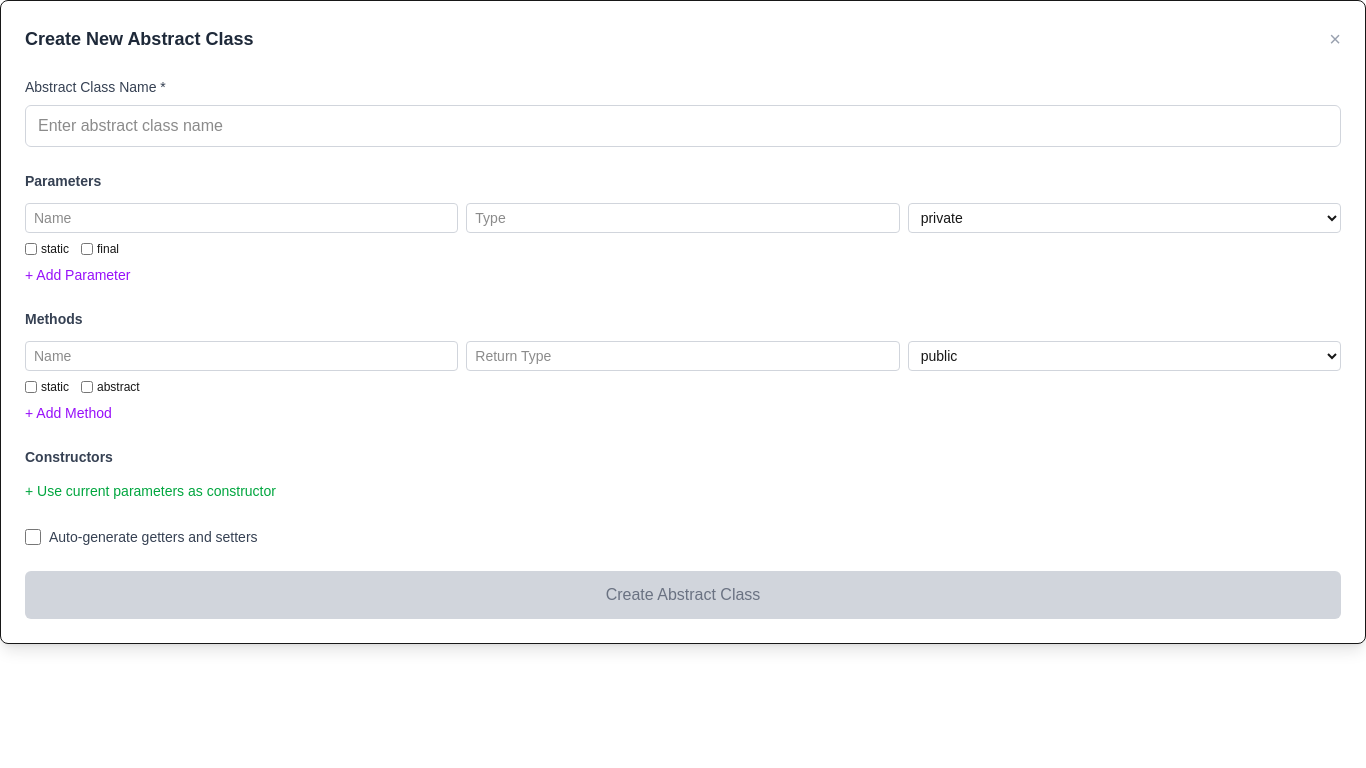
CreateAbstract component › adds and removes an abstract method
The width and height of the screenshot is (1366, 768).
Type "execute" into the field with placeholder "Name" below "Methods".
click(242, 356); type("execute")  # box top-left (25, 341), bottom-right (458, 371)
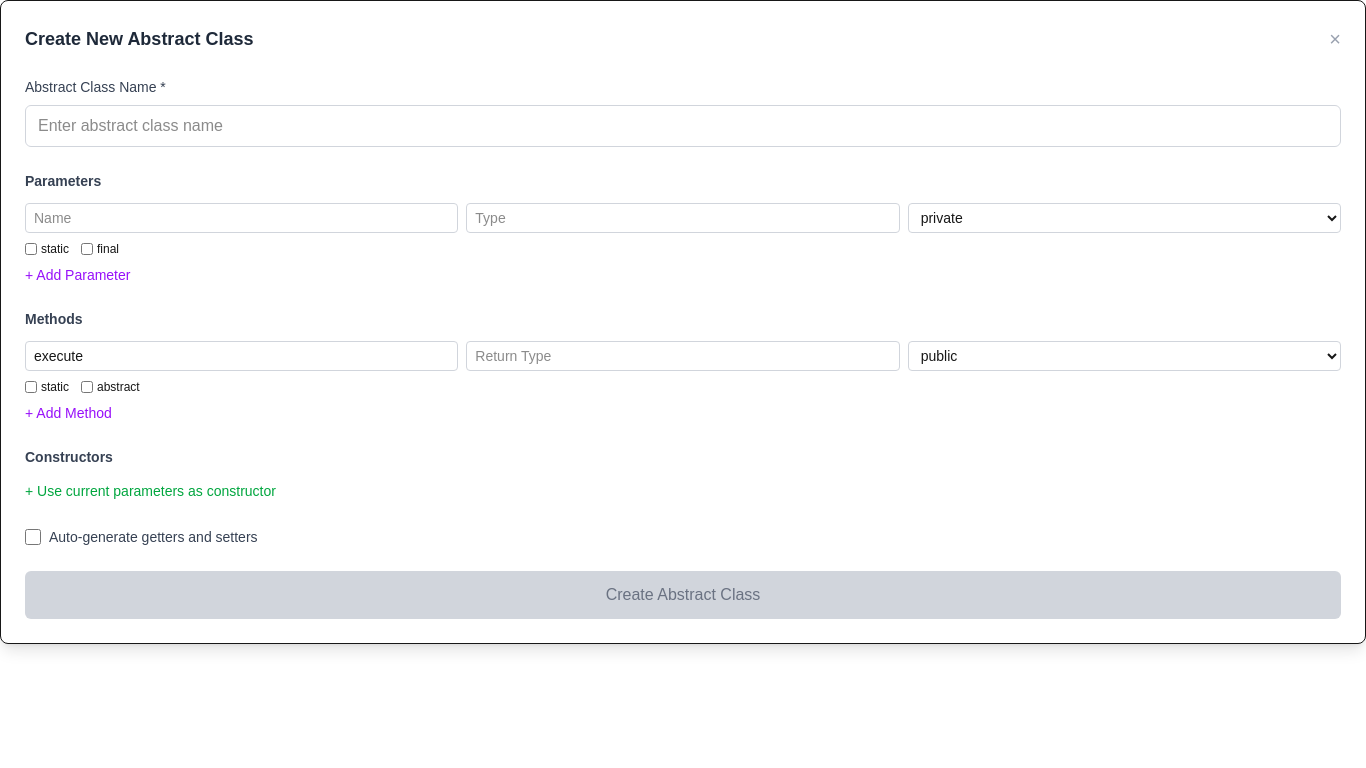
Type "void" into the field with placeholder "Return Type".
click(683, 356); type("void")  # box top-left (466, 341), bottom-right (900, 371)
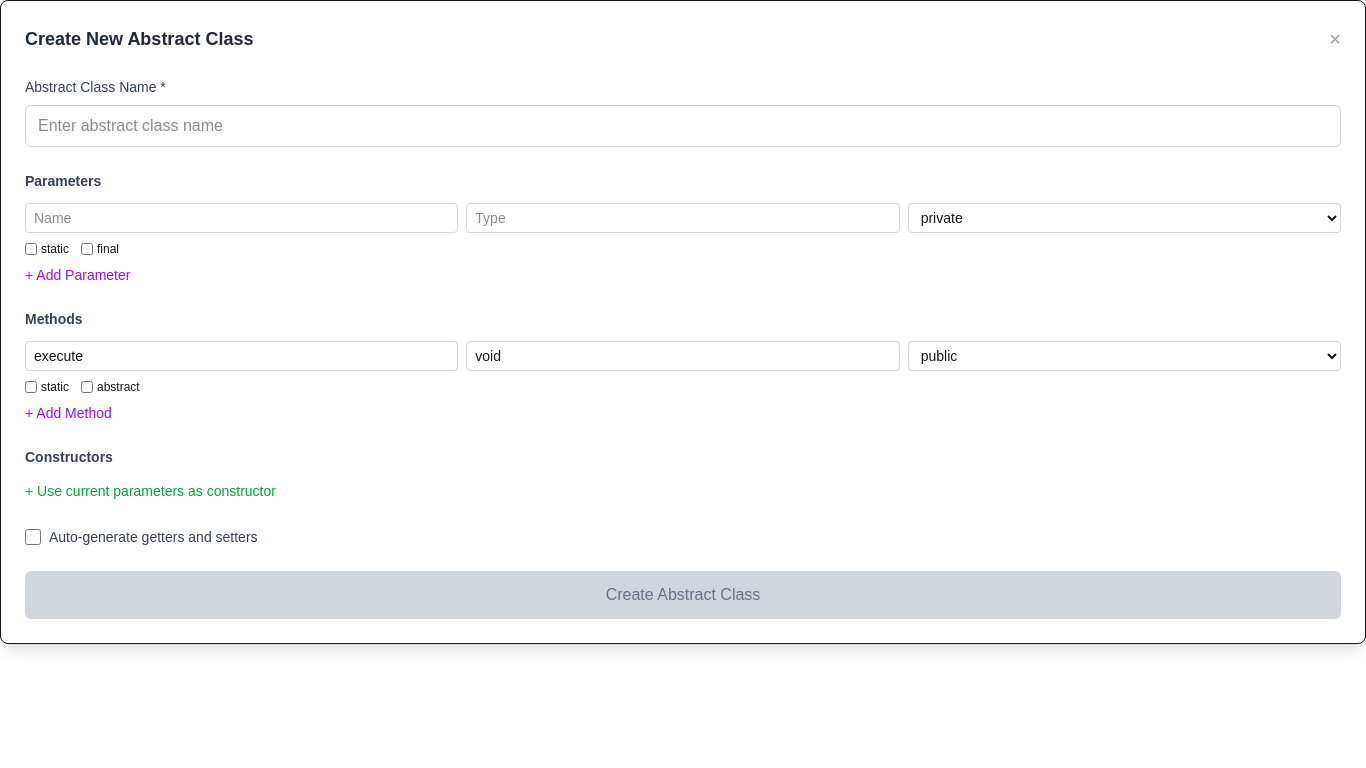
Click the text "abstract".
click(110, 387)  # box top-left (81, 379), bottom-right (140, 395)
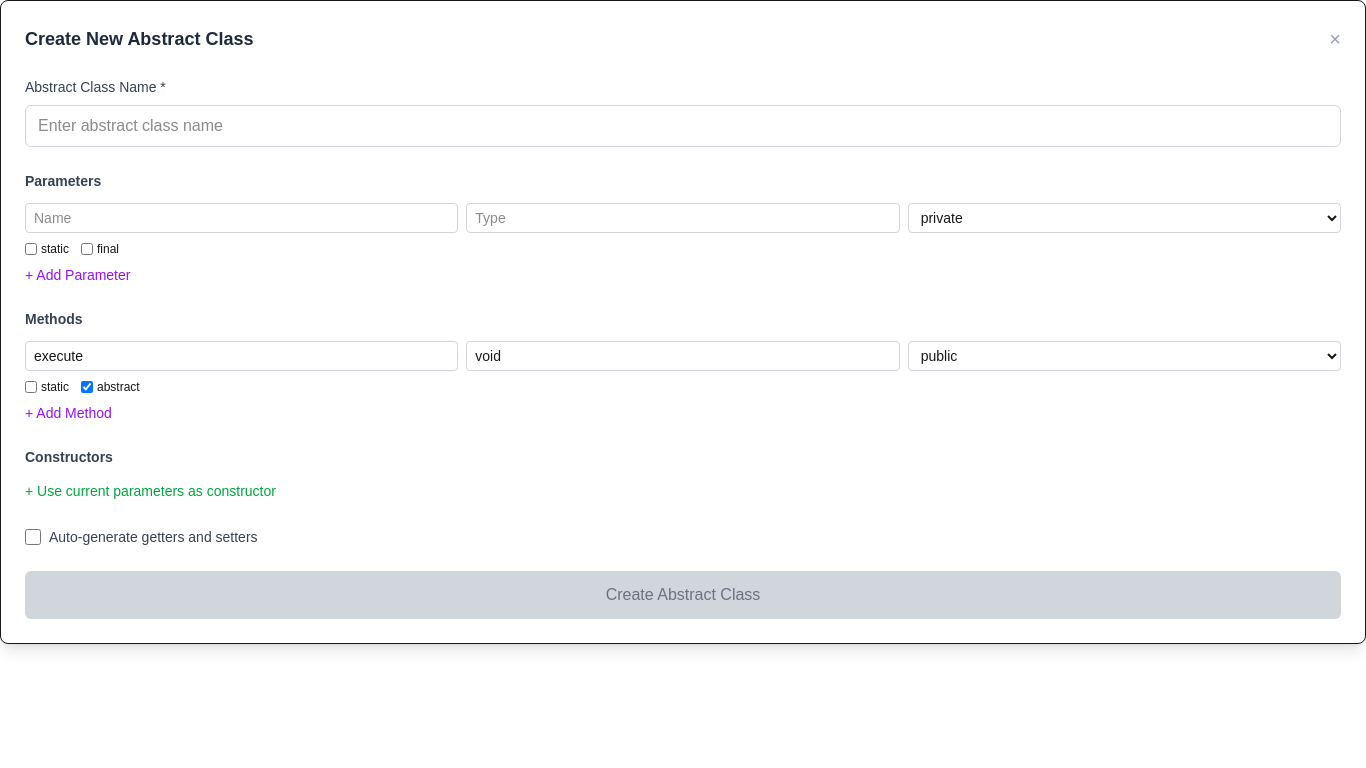
Click the button "+ Add Method".
click(68, 413)  # box top-left (25, 403), bottom-right (112, 423)
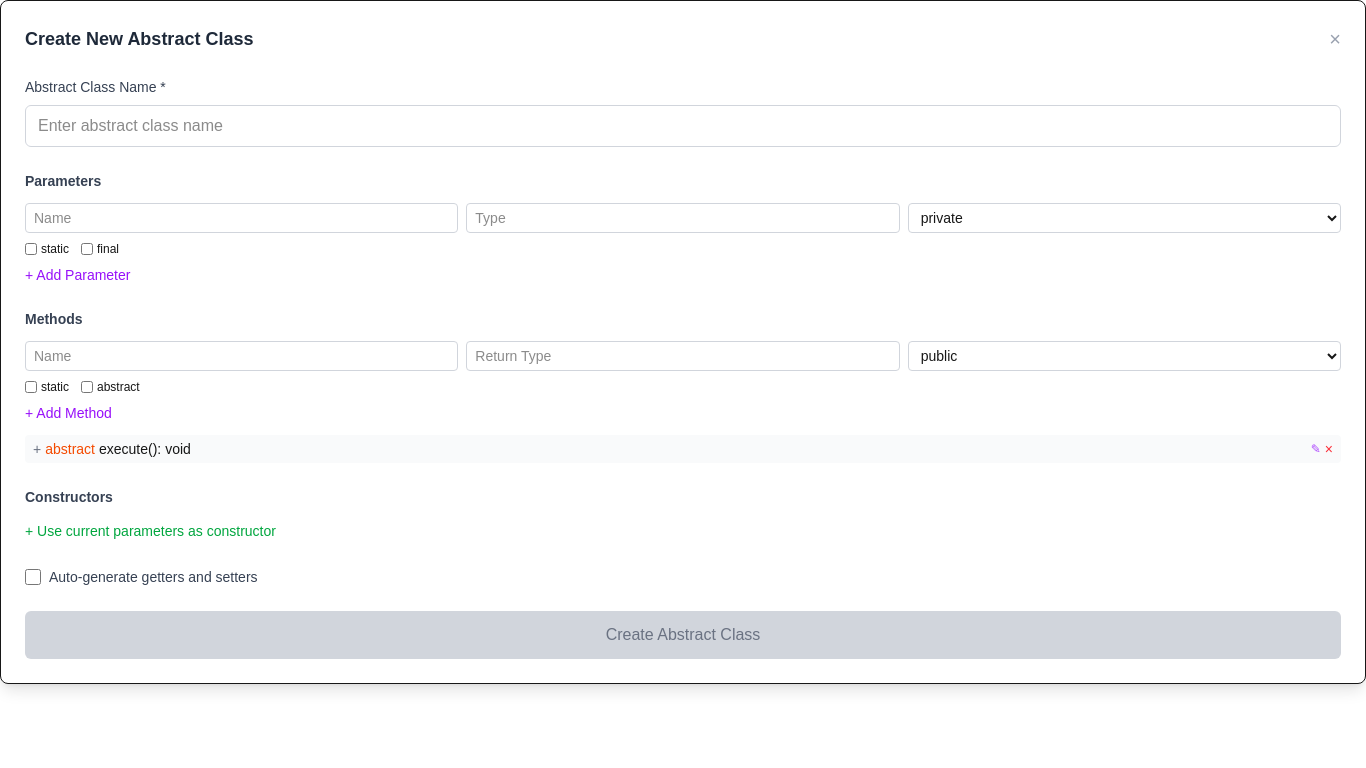
Expected: the text "execute(): void" is shown, top-left (99, 441), bottom-right (191, 457)
Expected: the text "abstract" is shown, top-left (45, 441), bottom-right (95, 457)
Click the button named "Remove method".
click(1329, 449)  # box top-left (1325, 439), bottom-right (1333, 459)
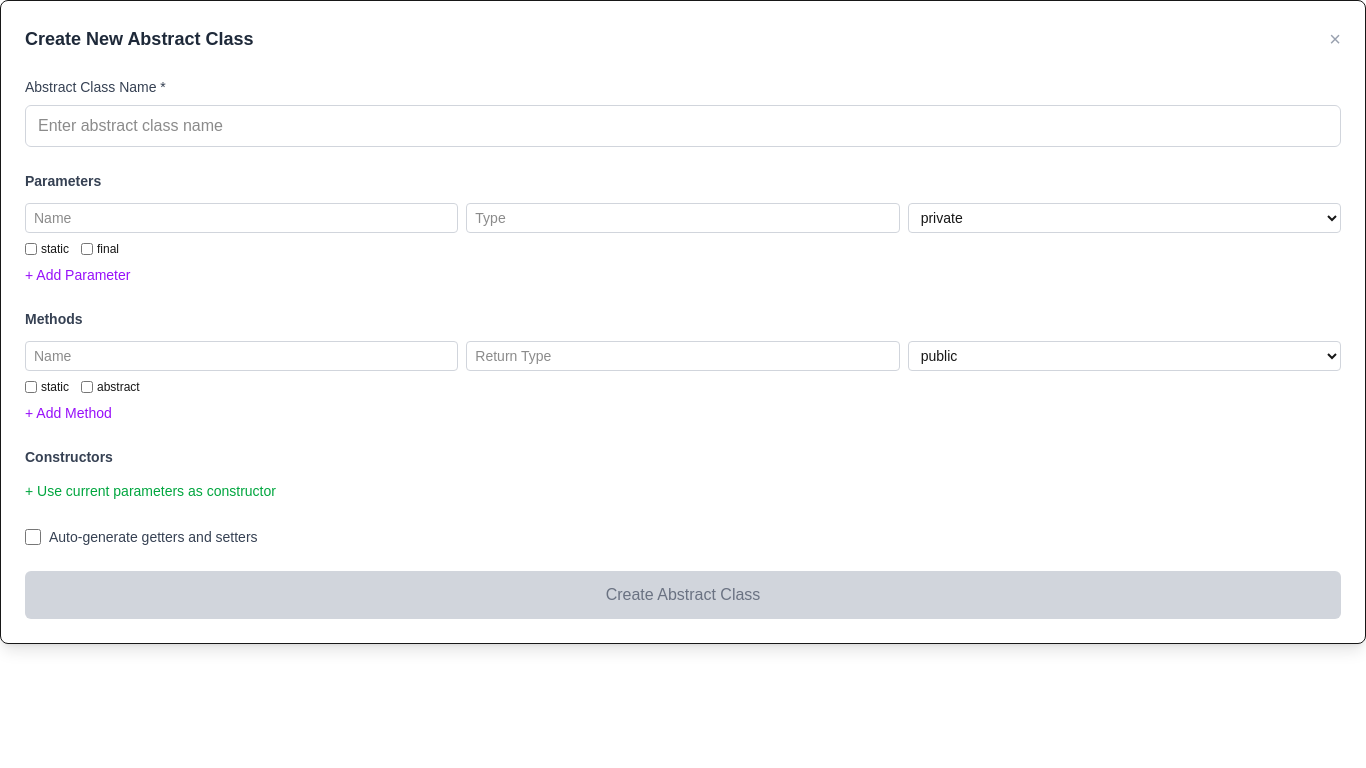
Expected: the text "execute(): void" is gone
